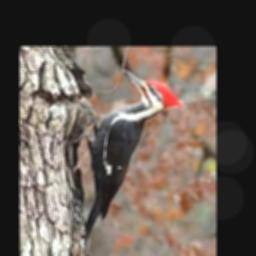Woodpecker: (83, 70, 183, 249)
